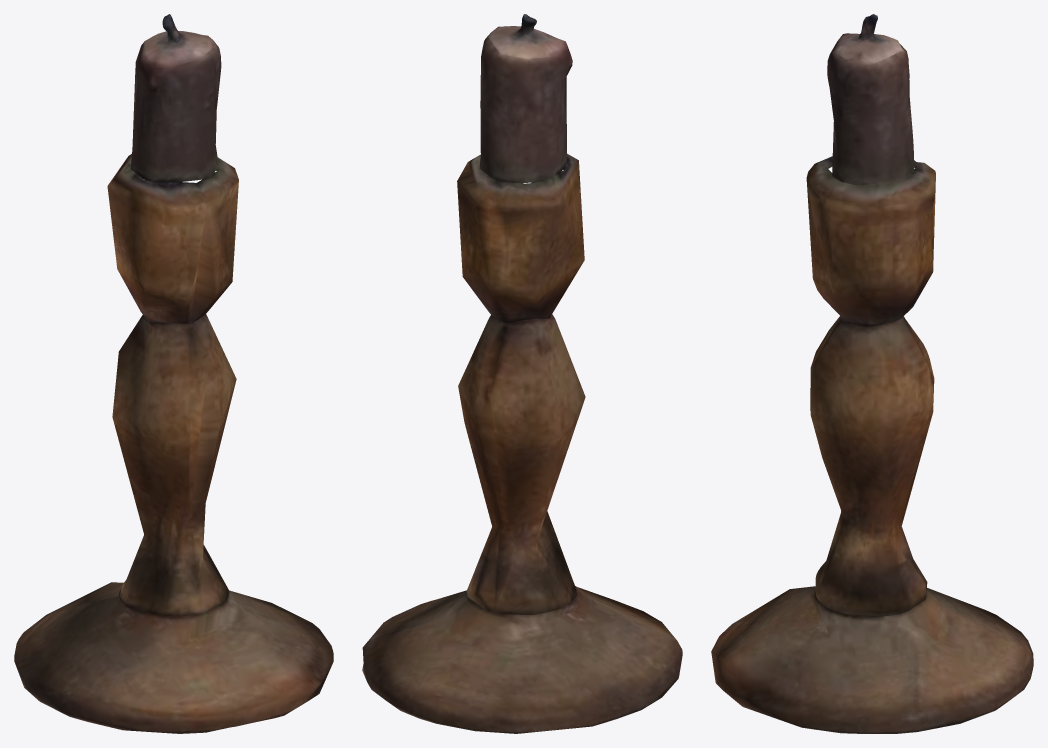
Rendered from wooden_candlestick.glb.
3 renders of one model, left to right at view 1: azimuth 30°, elevation 25°; view 2: azimuth 150°, elevation 25°; view 3: azimuth 270°, elevation 25°, orthographic.
Visible parts, largest first — view 1: wooden_candlestick; view 2: wooden_candlestick; view 3: wooden_candlestick.
Boxes of the visible parts, bbox=[...] form: wooden_candlestick: bbox=[14, 14, 333, 733]; wooden_candlestick: bbox=[362, 14, 682, 733]; wooden_candlestick: bbox=[711, 14, 1033, 733].
Bounding box in the file's own units: 0.0971 × 0.2196 × 0.0984.
1 material, 1 textured.
